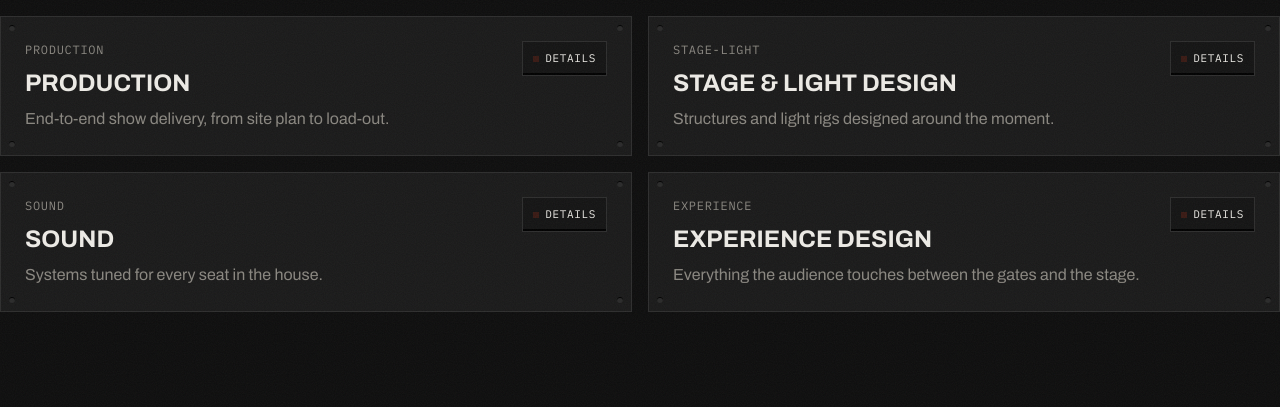
Test case: expands a rack unit with its toggle
Expected: the text "Site and venue planning" is not shown
Click the 1st button "Details" at (565, 58), box [522, 41, 607, 76]
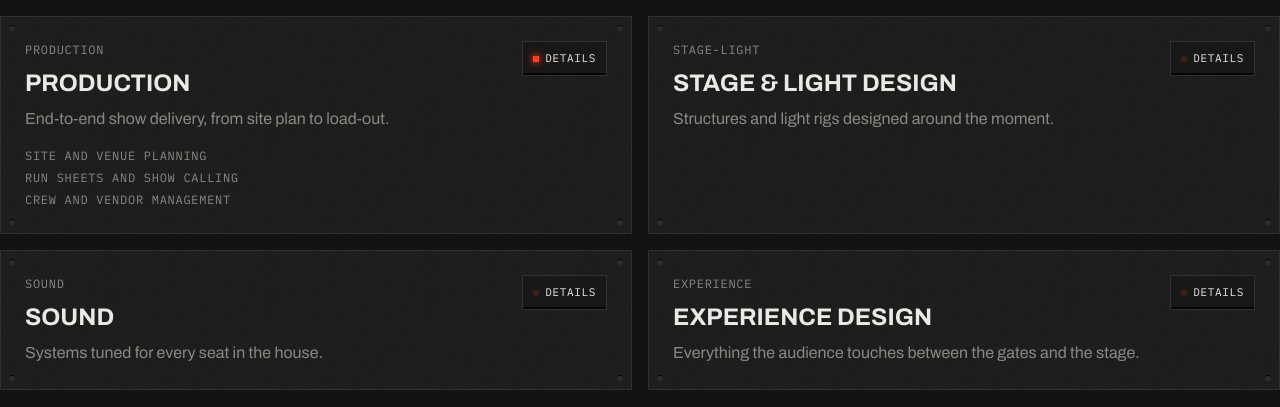
Result: the 1st button "Details" is expanded at [522, 41, 607, 76]
Result: the list item "Site and venue planning" is shown at [25, 148, 207, 163]
